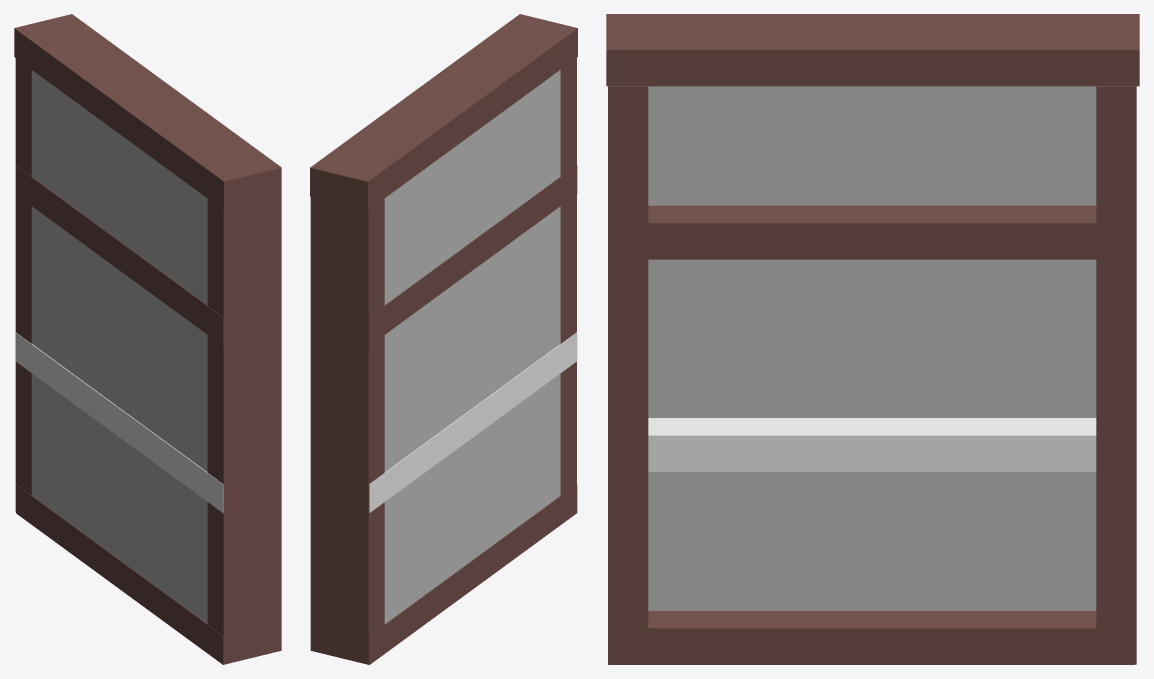
Rendered from Shelf1.glb.
3 views of the same model, side by side, from view 1: azimuth 30°, elevation 25°; view 2: azimuth 150°, elevation 25°; view 3: azimuth 270°, elevation 25° (orthographic). The views are drawn at different scales.
Parts seen in each view (by area): view 1: Cube, Cube.001, Cube.003, Cube.002, Cube.005, Cube.004, Cube.006; view 2: Cube, Cube.002, Cube.003, Cube.004, Cube.005, Cube.006, Cube.001; view 3: Cube, Cube.003, Cube.004, Cube.005, Cube.006, Cube.001, Cube.002.
Part boxes in pixels (x1,y1,x2,y2): Cube: (32,70,207,623); Cube.001: (207,196,281,664); Cube.003: (14,14,281,210); Cube.002: (15,58,31,511); Cube.005: (16,484,280,664); Cube.004: (16,165,223,346); Cube.006: (16,332,223,513); Cube: (384,70,560,623); Cube.002: (310,197,384,664); Cube.003: (310,14,577,210); Cube.004: (369,165,577,345); Cube.005: (369,484,577,664); Cube.006: (369,332,577,512); Cube.001: (560,58,576,495); Cube: (648,86,1096,610); Cube.003: (606,14,1139,86); Cube.004: (648,205,1096,259); Cube.005: (608,611,1134,664); Cube.006: (648,418,1096,471); Cube.001: (608,86,648,664); Cube.002: (1096,86,1136,664).
Bounding box in the file's own units: 0.8055 × 6.39 × 5.02.
Materials: 7 (6 with a texture image).
